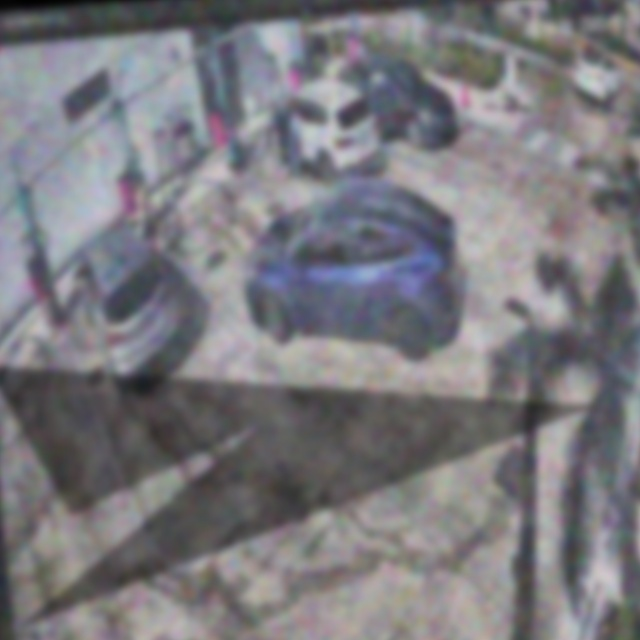Car: (235, 171, 464, 375), (69, 206, 191, 398), (261, 68, 388, 195), (334, 45, 464, 160)
